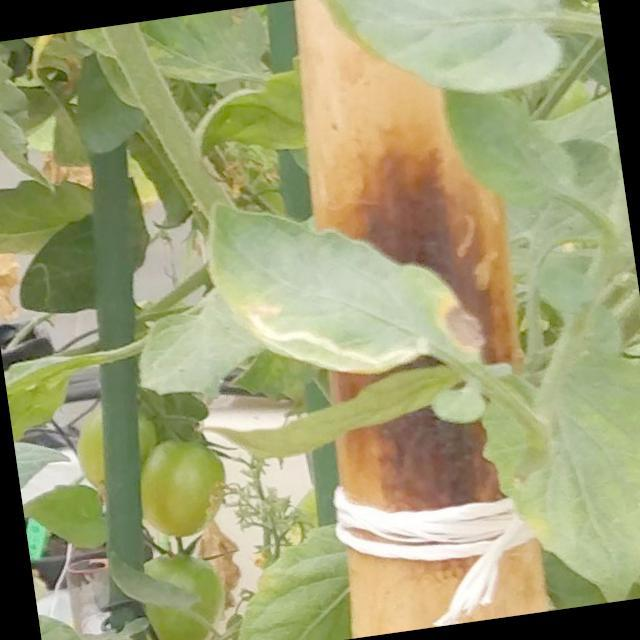Tomato target spot leaf: (200, 162, 498, 413)
